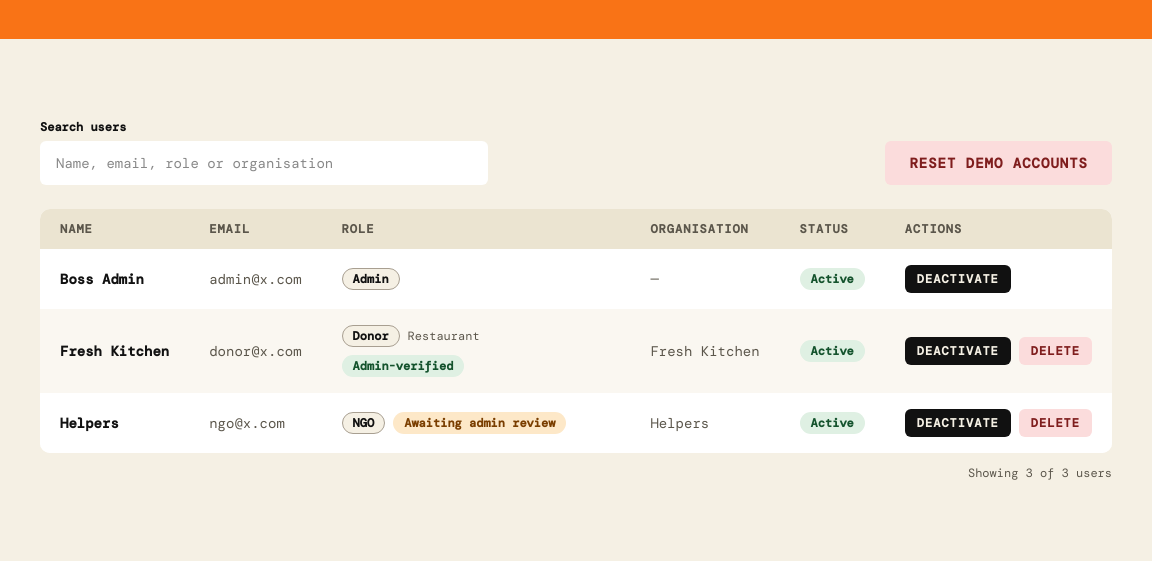
delete controls › asks before deleting, then removes the row
This screenshot has width=1152, height=561.
(page scrolled)
Expected: the table is shown, [40,209,1112,453]
Click the button "Delete" in the row of "ngo@x.com": (1055, 423) [1019,409,1092,437]
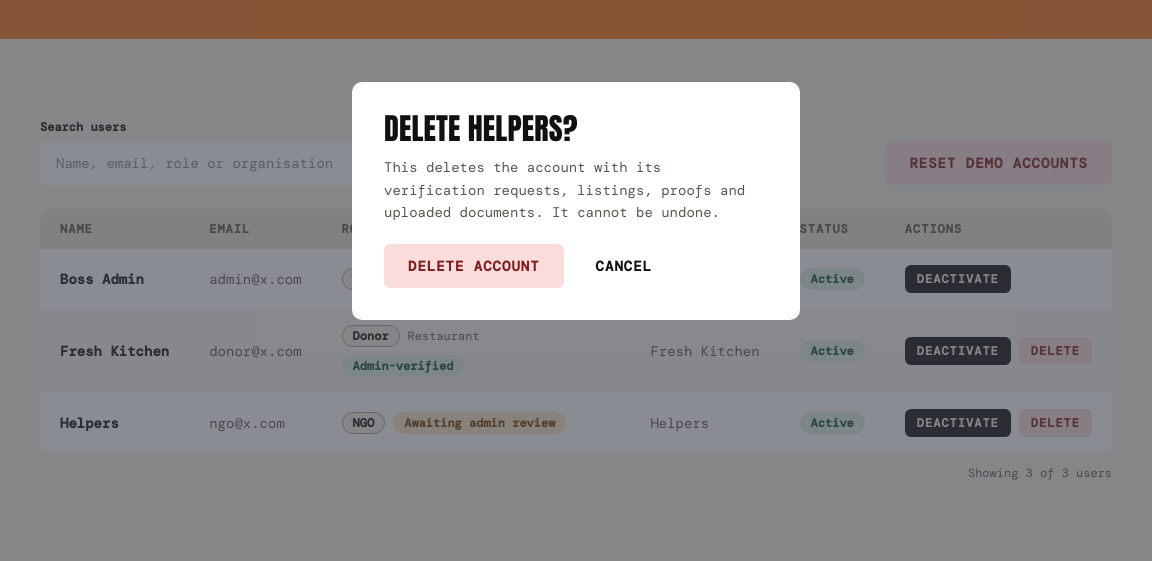
Result: the heading "Delete Helpers?" is shown at [384,106,578,151]
Click the button "Delete account": (474, 266) [384,244,564,288]
(page scrolled)
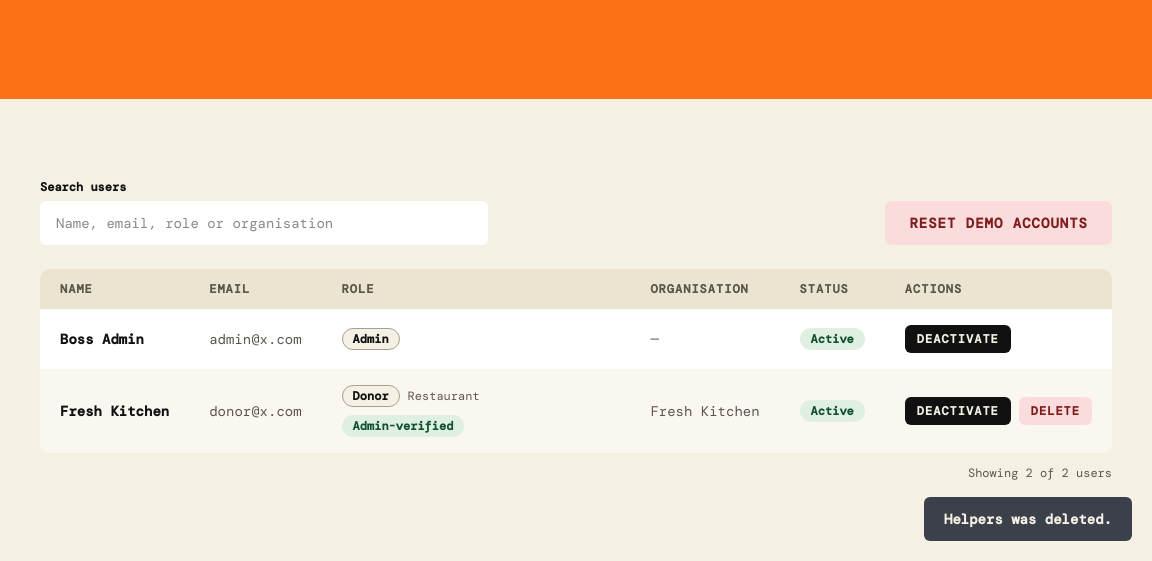
Result: the text "ngo@x.com" is gone
Result: the dialog is gone
